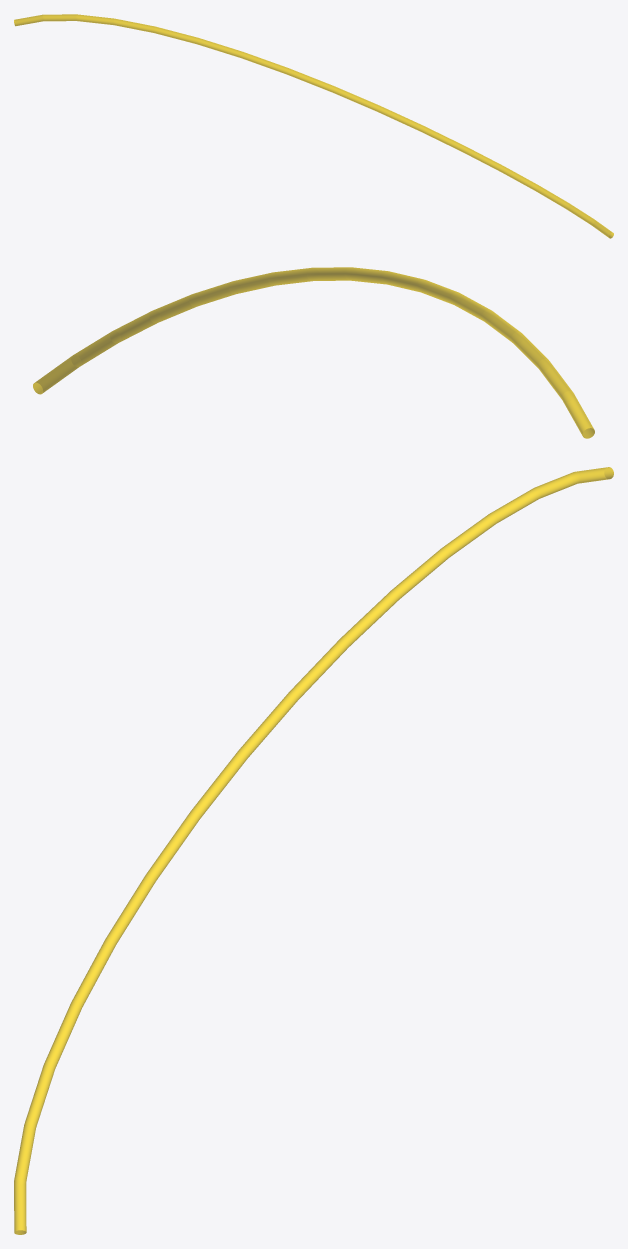
Rendered from Event_100608114_track_67.fbx.
3 renders of one model, top to bottom at view 1: azimuth 30°, elevation 25°; view 2: azimuth 150°, elevation 25°; view 3: azimuth 270°, elevation 25°, orthographic. The views are drawn at different scales.
Parts seen in each view (by area): view 1: Model; view 2: Model; view 3: Model.
Boxes of the visible parts, <box> form: Model: <box>14,14,613,238</box>; Model: <box>33,267,594,438</box>; Model: <box>14,467,613,1234</box>.
Size of the model in its own units: 3.02 by 1.42 by 1.95.
